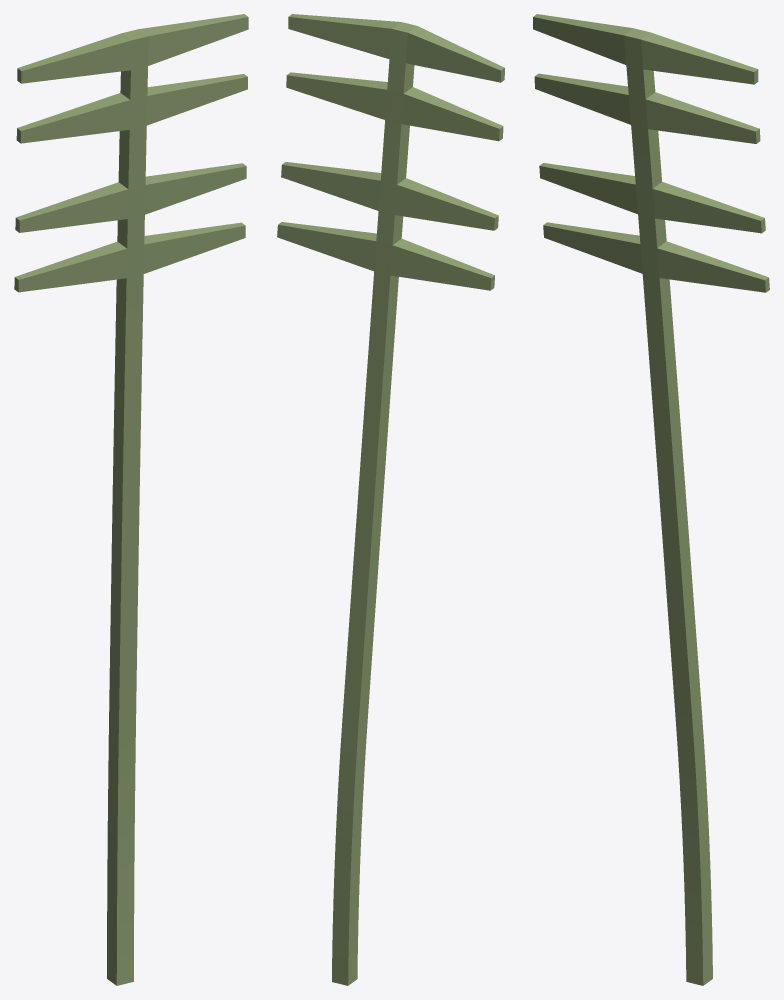
Rendered from mast1.fbx.
3 views of the same model, side by side, from view 1: azimuth 30°, elevation 25°; view 2: azimuth 150°, elevation 25°; view 3: azimuth 330°, elevation 25° (orthographic). The views are drawn at different scales.
Visible parts, largest first — view 1: Cube.003; view 2: Cube.003; view 3: Cube.003.
Part boxes in pixels (x1=…): Cube.003: x1=14, y1=14, x2=248, y2=985; Cube.003: x1=277, y1=14, x2=504, y2=985; Cube.003: x1=533, y1=14, x2=769, y2=985.
Size of the model in its own units: 74.81 by 305 by 27.54.
